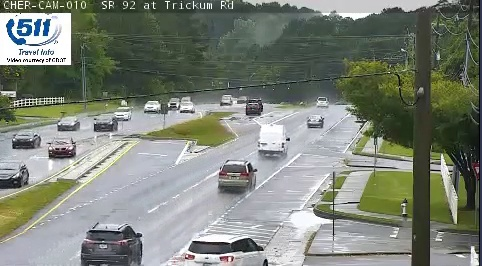car: (82, 223, 143, 266), (219, 161, 255, 189), (308, 115, 323, 129)
van: (258, 125, 287, 155)
